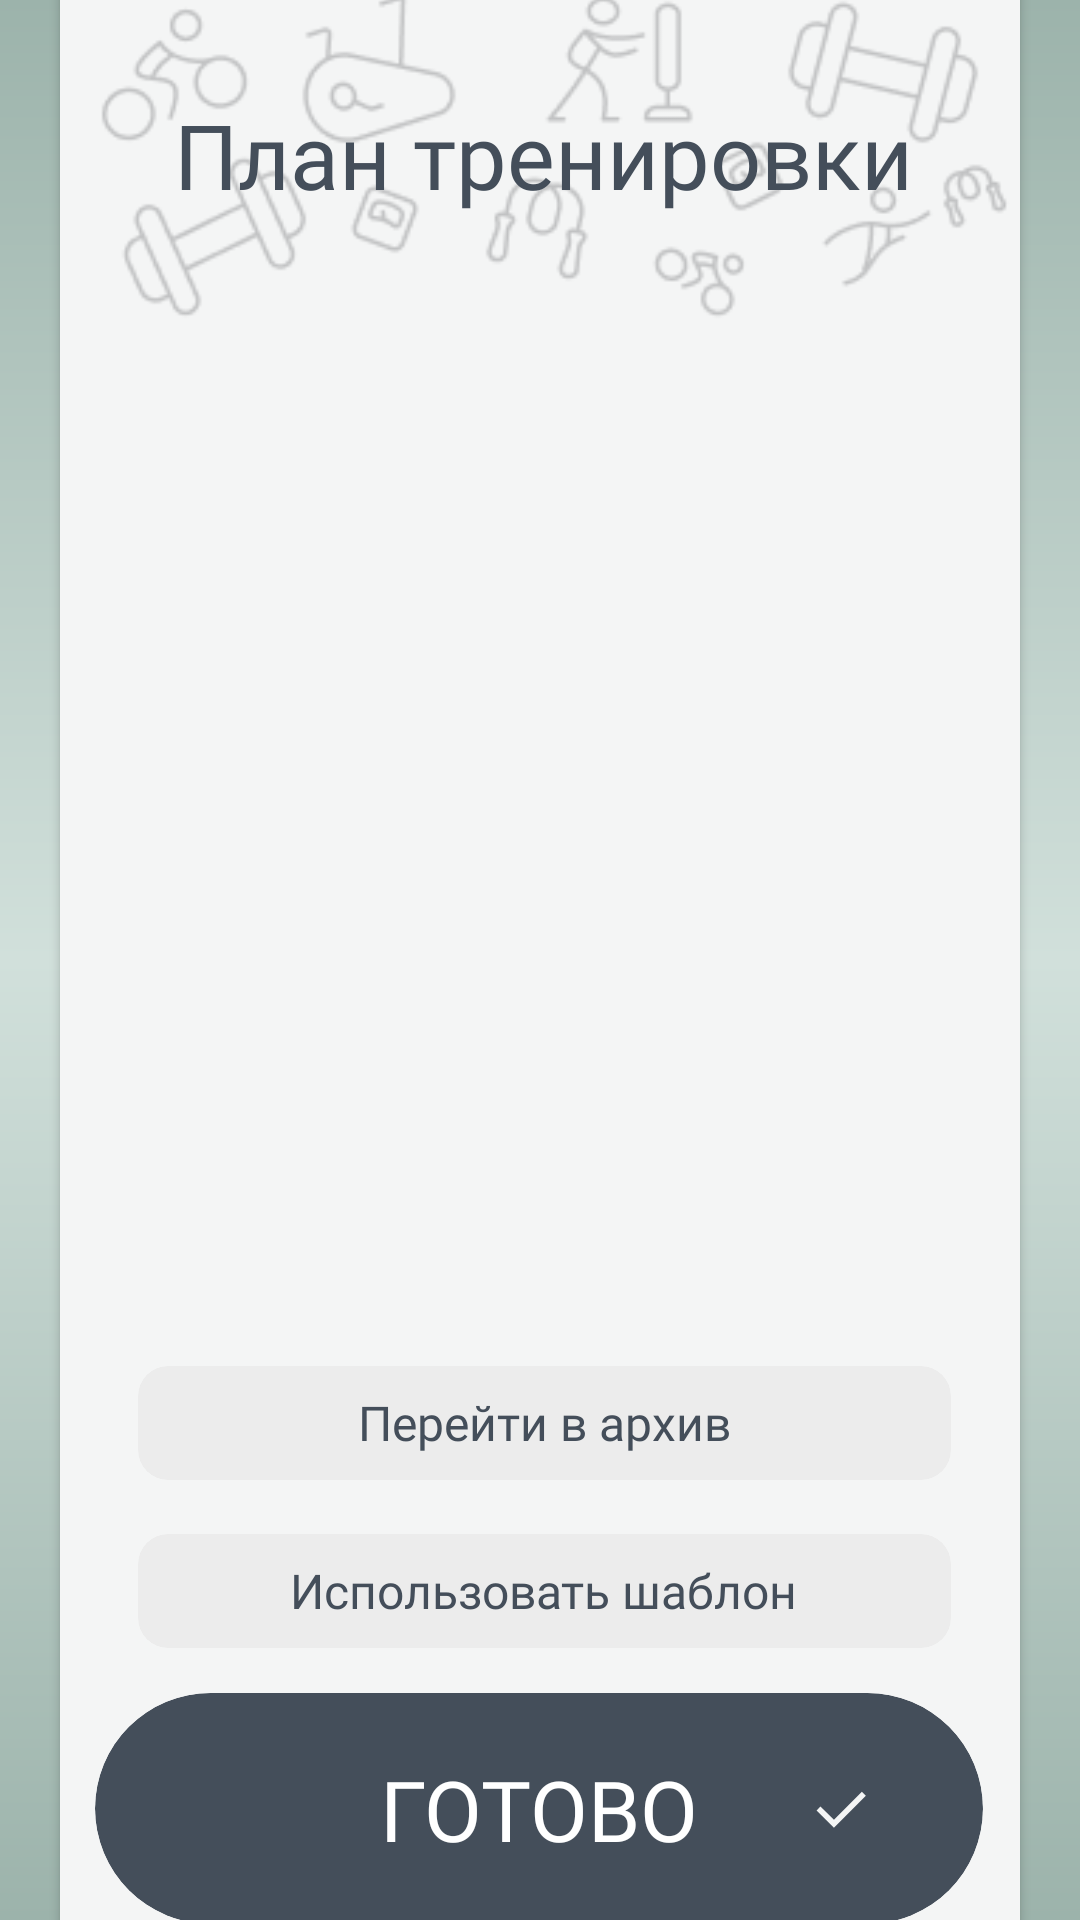

Icons on this 1080px×1920px Android screen, each with its box as [x1,y1,x2,y2]:
check: [816,1792,866,1828]
